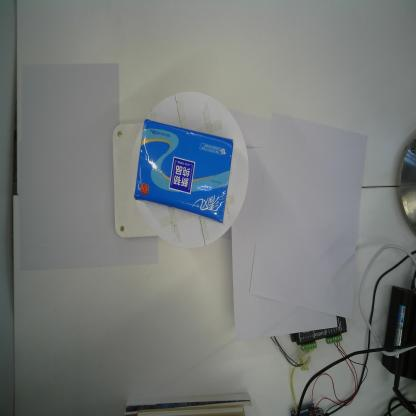Tissue: (134, 118, 234, 224)
